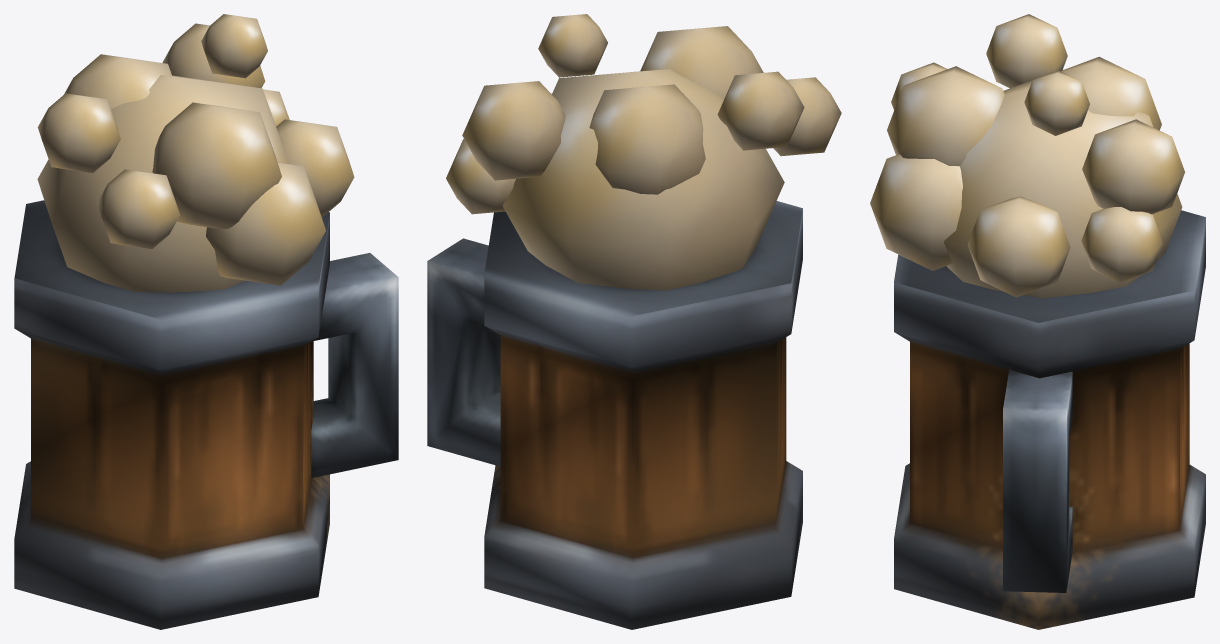
The model's file is jiubei01.FBX.
3 views of the same model, side by side, from view 1: azimuth 30°, elevation 25°; view 2: azimuth 150°, elevation 25°; view 3: azimuth 270°, elevation 25° (orthographic). The views are drawn at different scales.
Visible parts, largest first — view 1: jiubei01; view 2: jiubei01; view 3: jiubei01.
Part boxes in pixels (x1,y1,x2,y2): jiubei01: [14, 14, 398, 629]; jiubei01: [427, 14, 841, 629]; jiubei01: [870, 14, 1205, 629].
Bounding box in the file's own units: 67.25 × 93.51 × 55.27.
